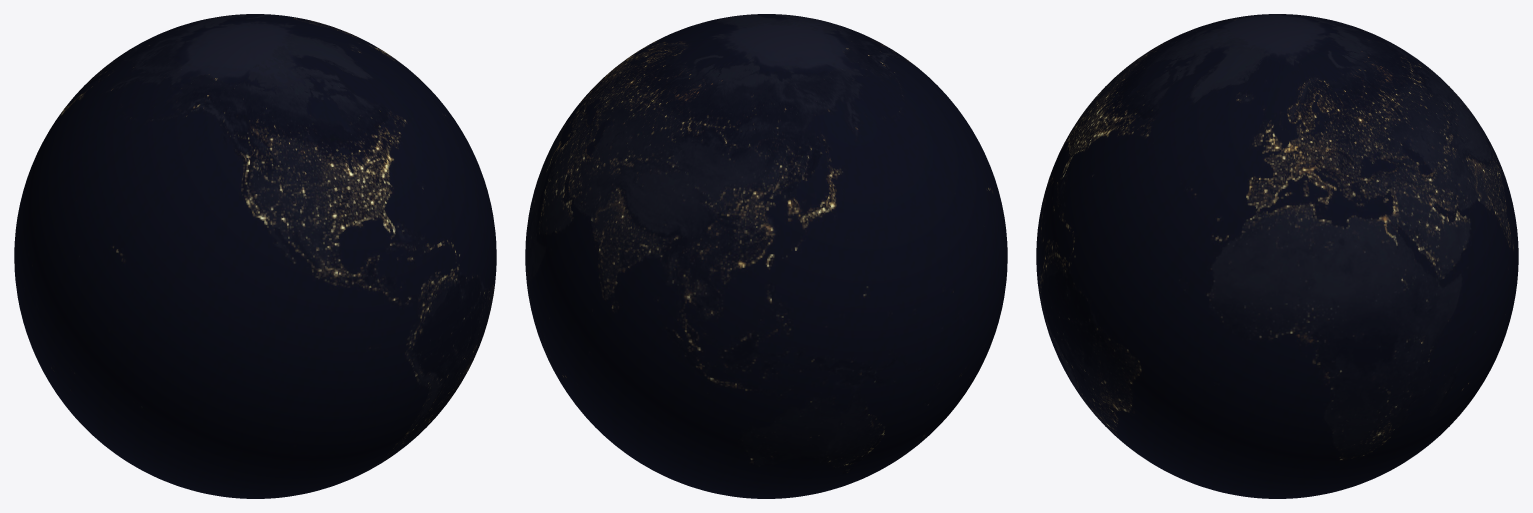
Rendered from planet_earth_at_night.glb.
3 views of the same model, side by side, from view 1: azimuth 30°, elevation 25°; view 2: azimuth 150°, elevation 25°; view 3: azimuth 270°, elevation 25° (orthographic).
Visible parts, largest first — view 1: Object_2; view 2: Object_2; view 3: Object_2.
Part boxes in pixels (left/top/right/bottom): Object_2: left=14, top=14, right=496, bottom=498; Object_2: left=525, top=14, right=1007, bottom=498; Object_2: left=1036, top=14, right=1518, bottom=498.
Size of the model in its own units: 1.97 by 2 by 1.97.
Materials: 1 (1 with a texture image).
